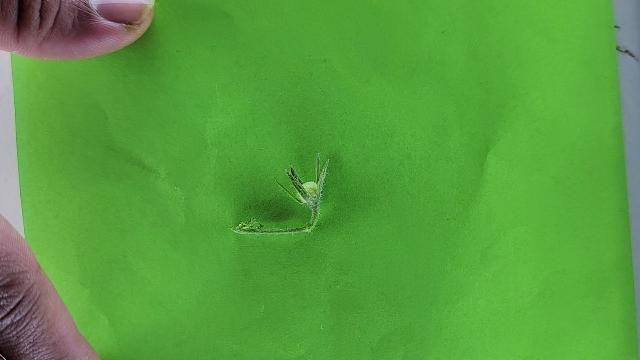Fruit Bud: (278, 153, 328, 211)
